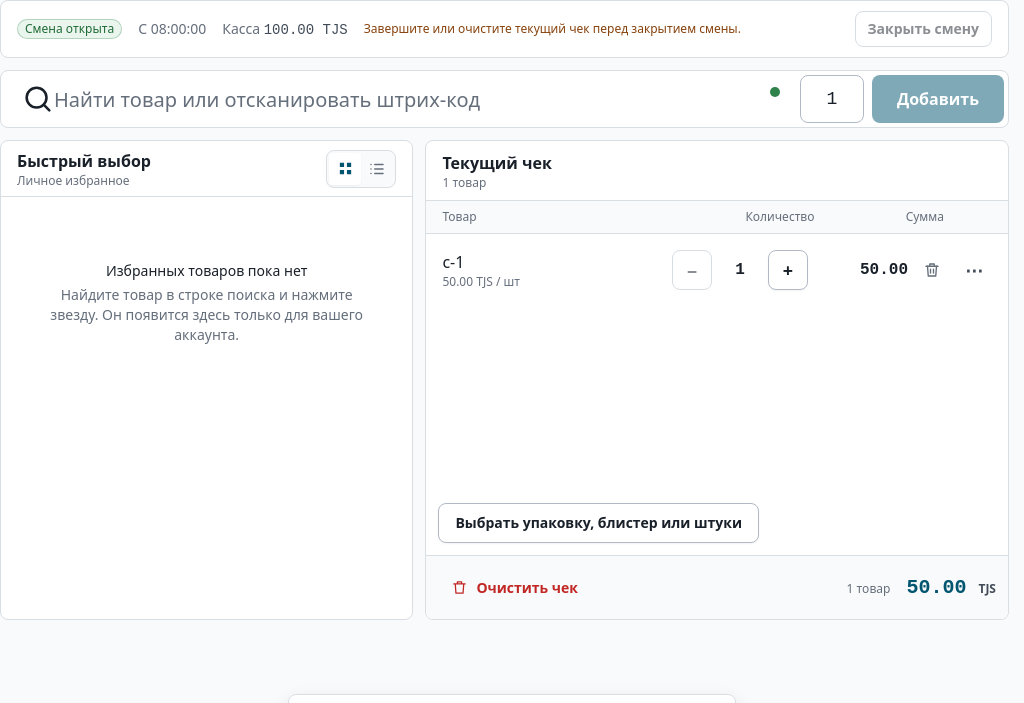
Test: SaleArea atomic checkout › requires confirmation before F2 clears a non-empty draft
Expected: the button "Закрыть смену" is disabled, [854,11,992,47]
Press F2
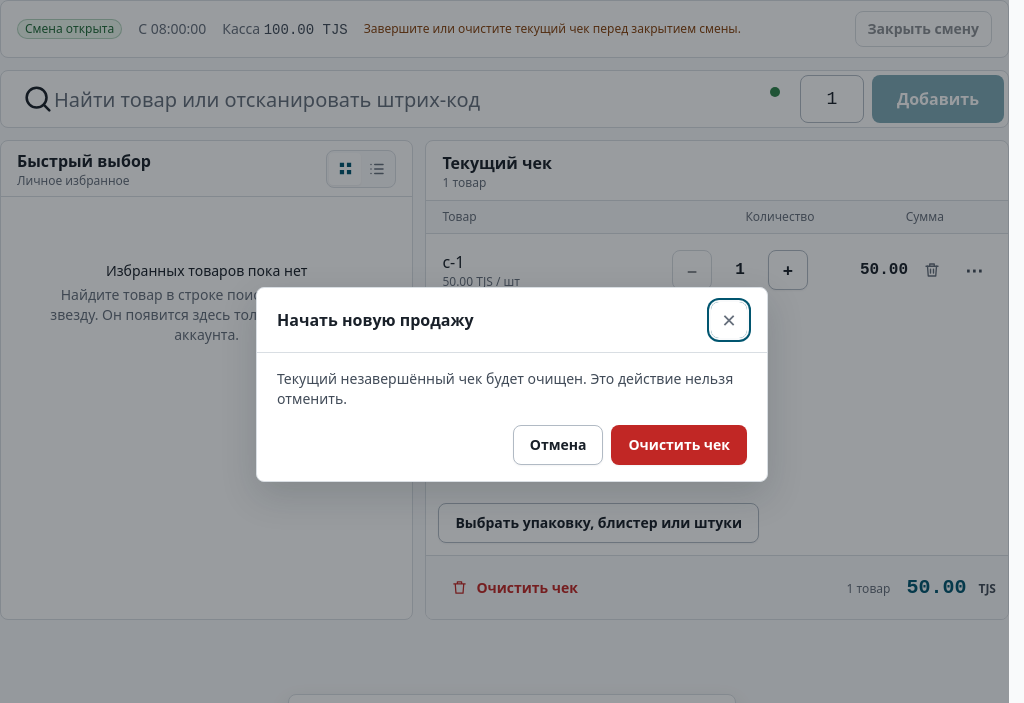
Expected: the dialog "Начать новую продажу" is shown, [256,286,768,482]
Click the button "Очистить чек" at (679, 444), box [612,424,747,464]
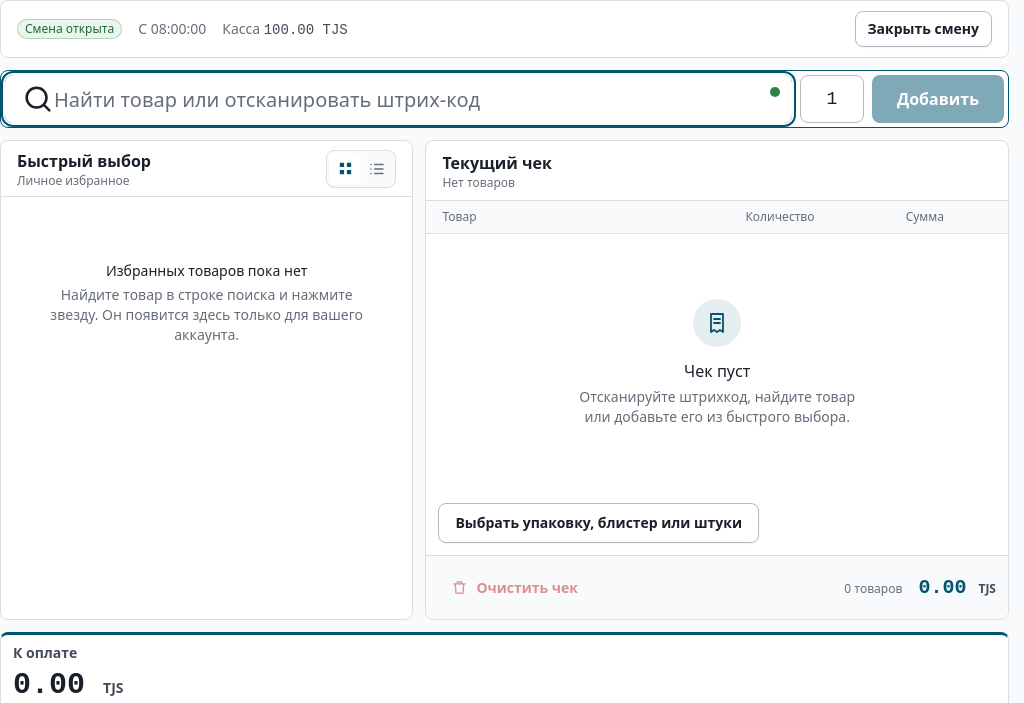
Expected: the heading "Начать новую продажу" is gone
